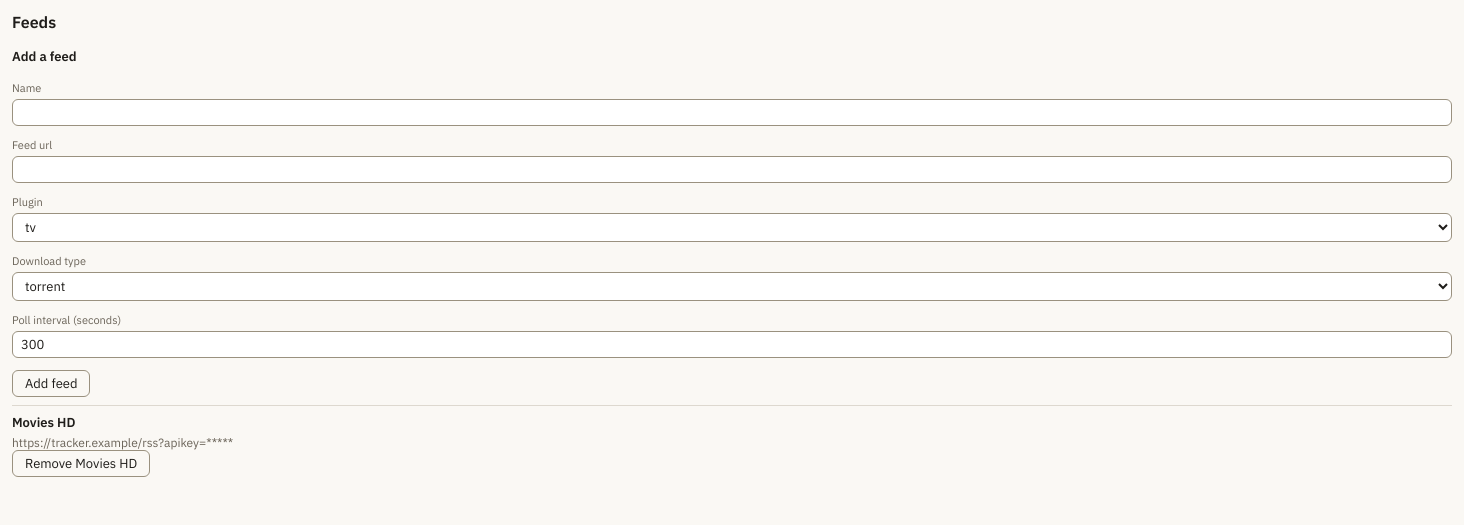
Test: removing a feed that produced nothing says it was removed
Click the button "Remove Movies HD" at (81, 464), box [12,450,150,477]
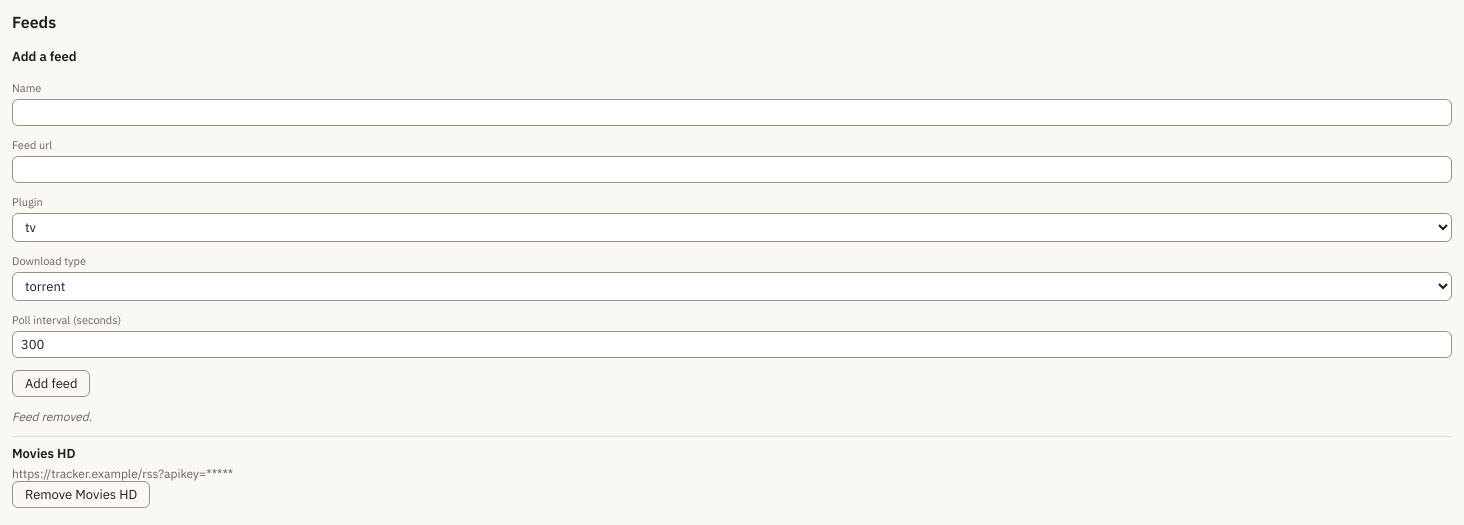
Expected: the text "Feed removed." is shown, [12,409,92,424]
